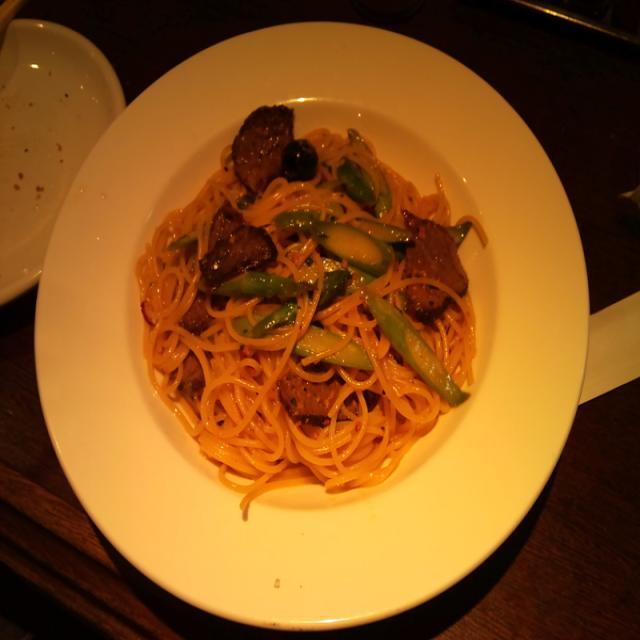Pasta: (133, 43, 505, 520)
